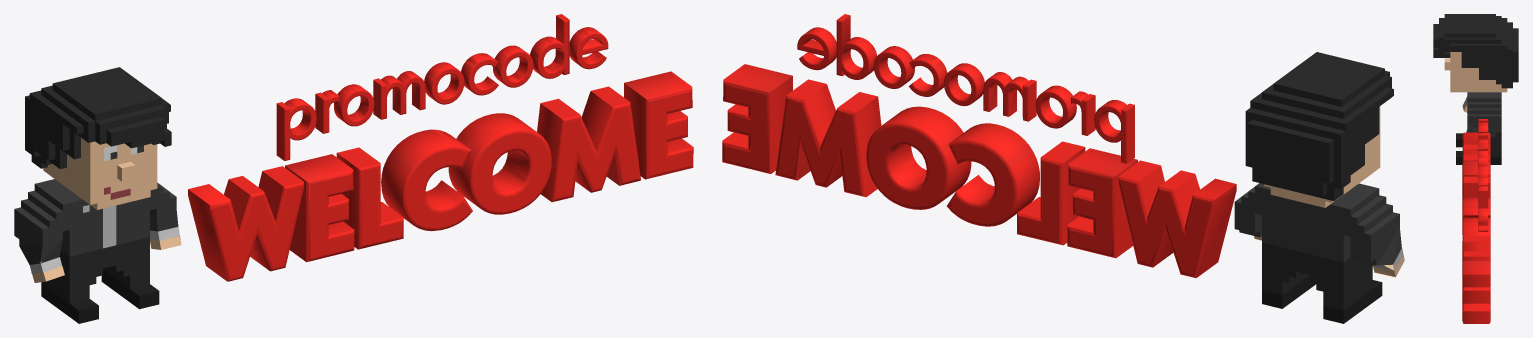
File: lastblock.glb
3 views of the same model, side by side, from view 1: azimuth 30°, elevation 25°; view 2: azimuth 150°, elevation 25°; view 3: azimuth 270°, elevation 25° (orthographic). The views are drawn at different scales.
Parts seen in each view (by area): view 1: Текст, man; view 2: Текст, man; view 3: man, Текст.
Boxes of the visible parts, left/top/right/bottom form: Текст: left=188, top=14, right=693, bottom=281; man: left=14, top=67, right=181, bottom=323; Текст: left=722, top=14, right=1236, bottom=278; man: left=1234, top=52, right=1404, bottom=323; man: left=1433, top=14, right=1518, bottom=164; Текст: left=1462, top=119, right=1490, bottom=323.
Size of the model in its own units: 11.03 by 3.49 by 2.08.
1 material, 1 textured.
